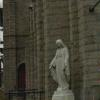Statue: (41, 30, 79, 96)
